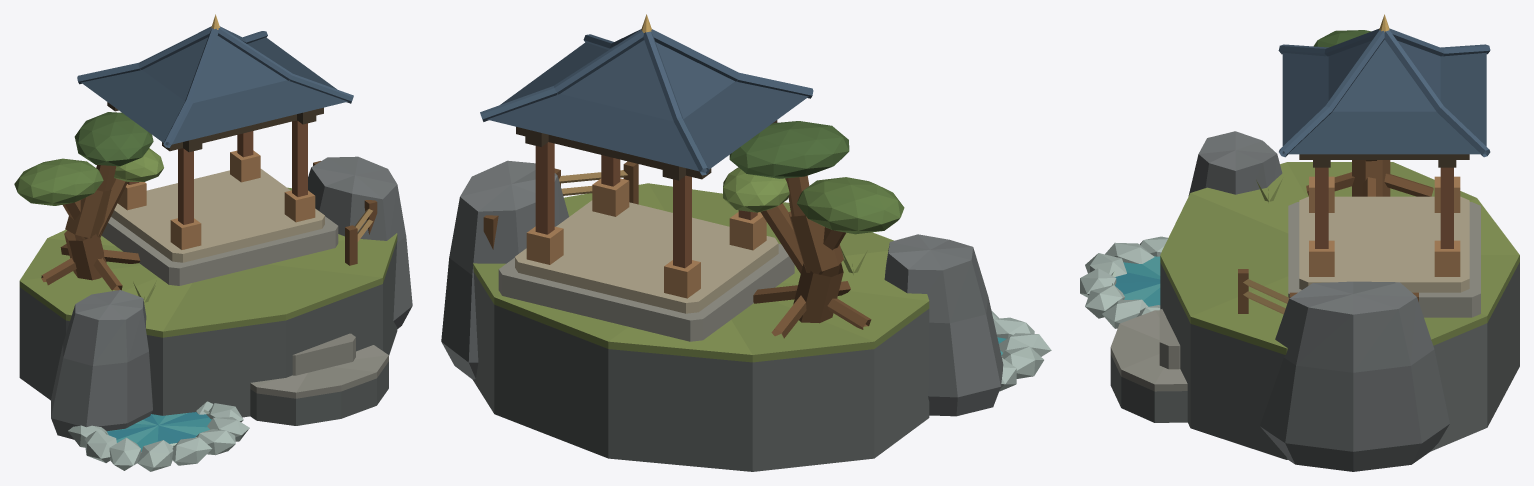
3 views of the same model, side by side, from view 1: azimuth 30°, elevation 25°; view 2: azimuth 150°, elevation 25°; view 3: azimuth 270°, elevation 25° (orthographic). The views are drawn at different scales.
Parts seen in each view (by area): view 1: S20_海崖风亭; view 2: S20_海崖风亭; view 3: S20_海崖风亭.
Part boxes in pixels (left/top/right/bottom): S20_海崖风亭: left=14, top=14, right=412, bottom=471; S20_海崖风亭: left=441, top=14, right=1051, bottom=471; S20_海崖风亭: left=1080, top=14, right=1519, bottom=471.
Bounding box in the file's own units: 4.73 × 3.64 × 3.92.
